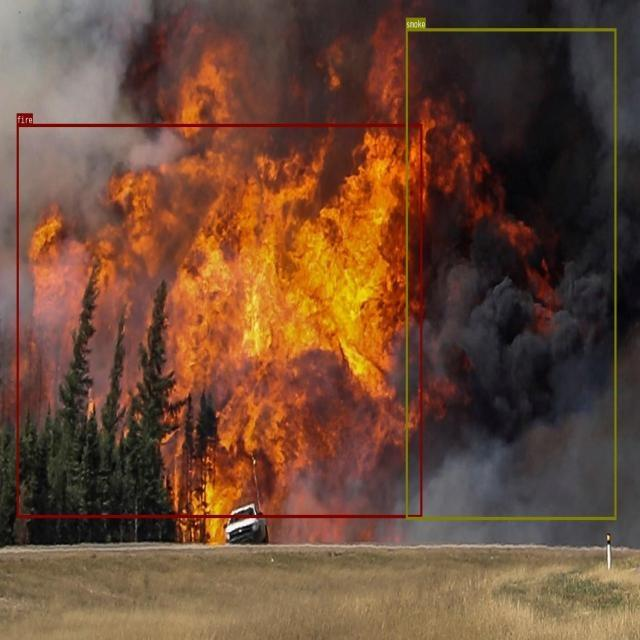fire: (16, 123, 422, 517)
smoke: (405, 28, 616, 519)
